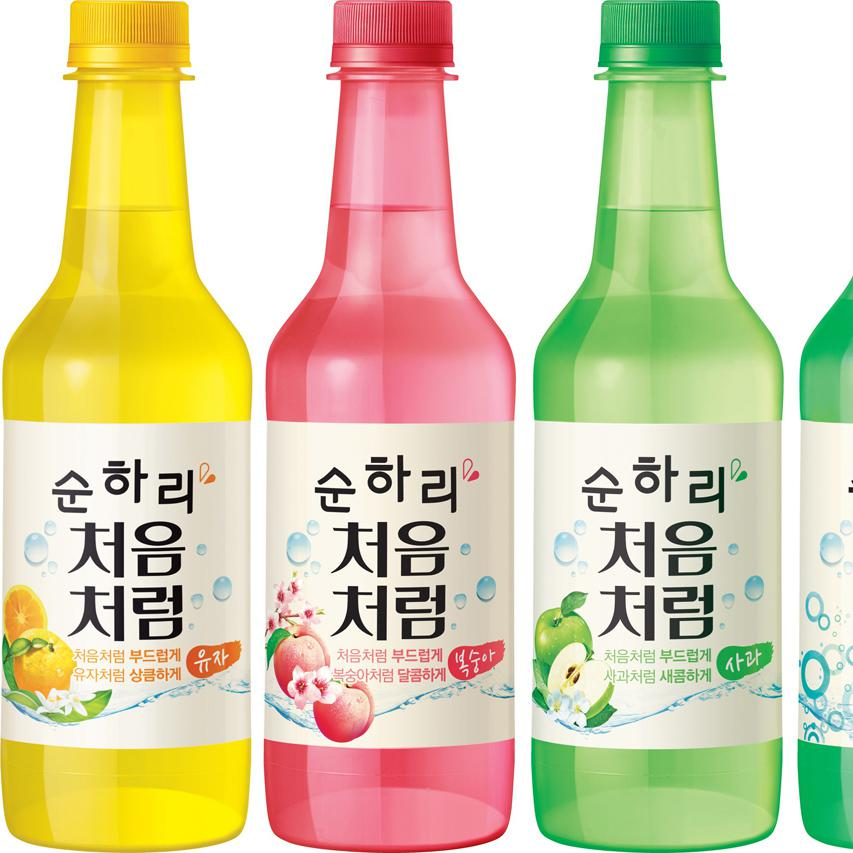soju: (3, 3, 788, 852)
